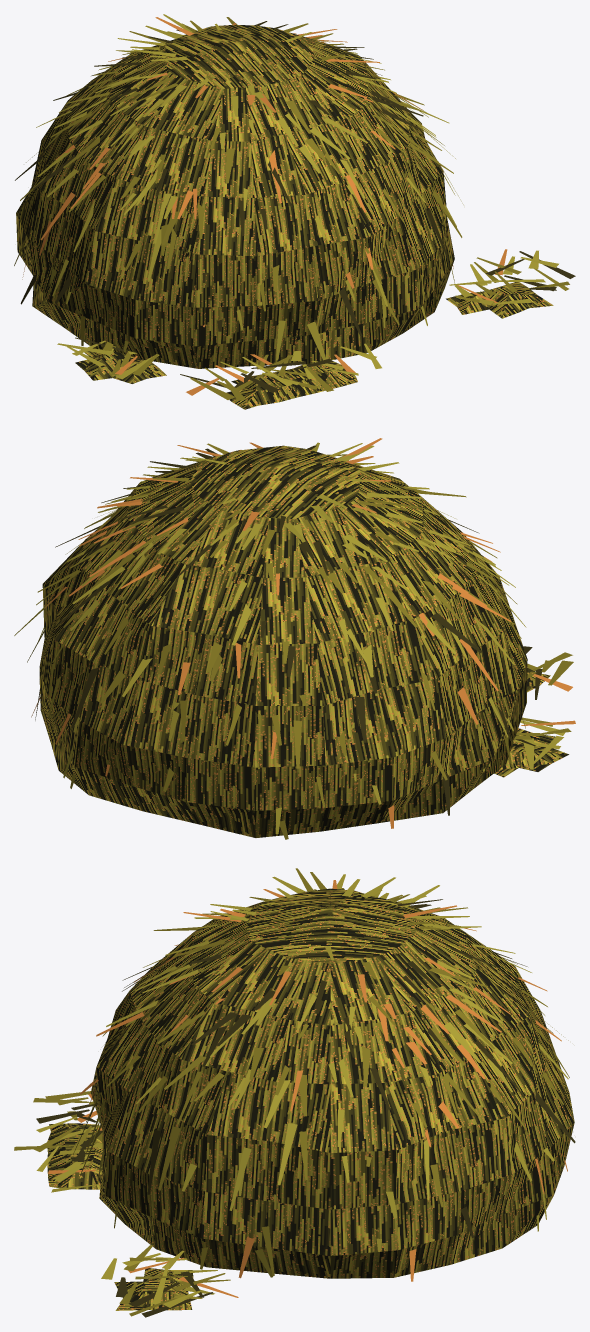
The model's file is Aracrop02.glb.
The picture shows the model from 3 angles, top to bottom: view 1: azimuth 30°, elevation 25°; view 2: azimuth 150°, elevation 25°; view 3: azimuth 270°, elevation 25°; orthographic projection. The views are drawn at different scales.
Parts seen in each view (by area): view 1: Aracrop02_hay; view 2: Aracrop02_hay; view 3: Aracrop02_hay.
Boxes of the visible parts, x1,y1,x2,y2 form: Aracrop02_hay: (14,14,575,409); Aracrop02_hay: (14,438,575,839); Aracrop02_hay: (14,868,575,1317).
Bounding box in the file's own units: 4.8 × 2.45 × 4.46.
5 materials, 1 textured.
